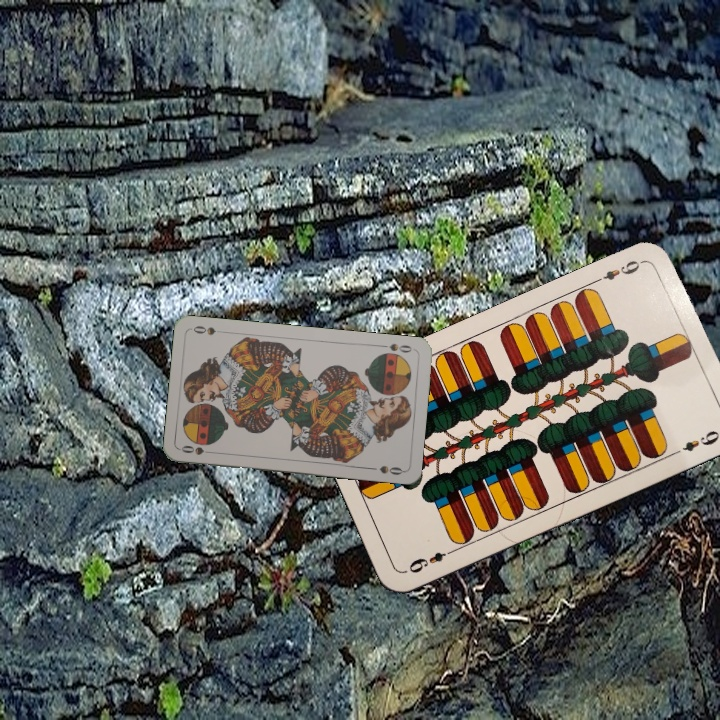E9: (591, 255, 647, 286), (404, 545, 458, 576)
SO: (177, 441, 218, 457), (376, 339, 414, 355)
